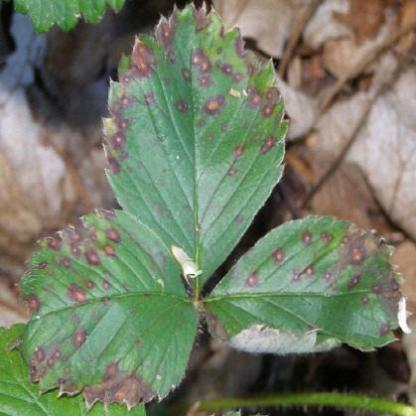Strawberry_Leaf_Spot: (100, 0, 290, 296), (4, 207, 199, 415), (203, 213, 414, 354)
